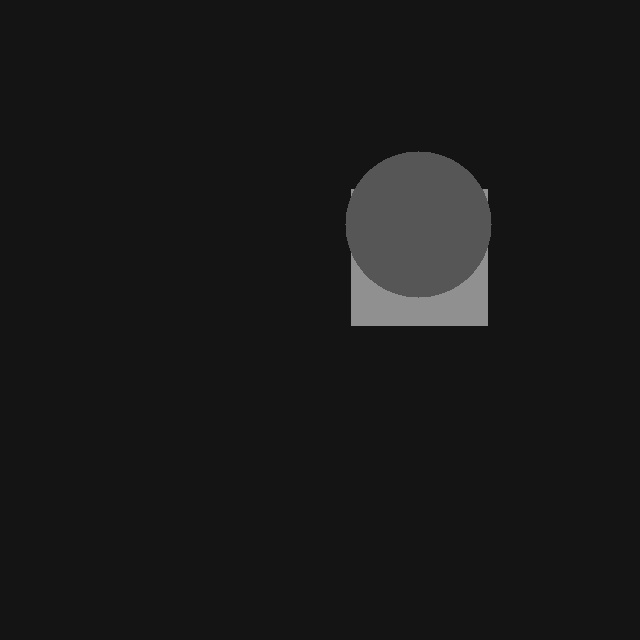circle: (345, 151, 491, 297)
square: (351, 189, 487, 325)
